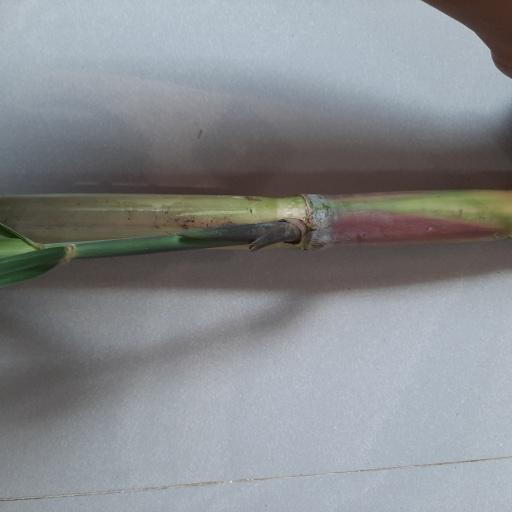Sprouted_Bud: (266, 217, 311, 248)
